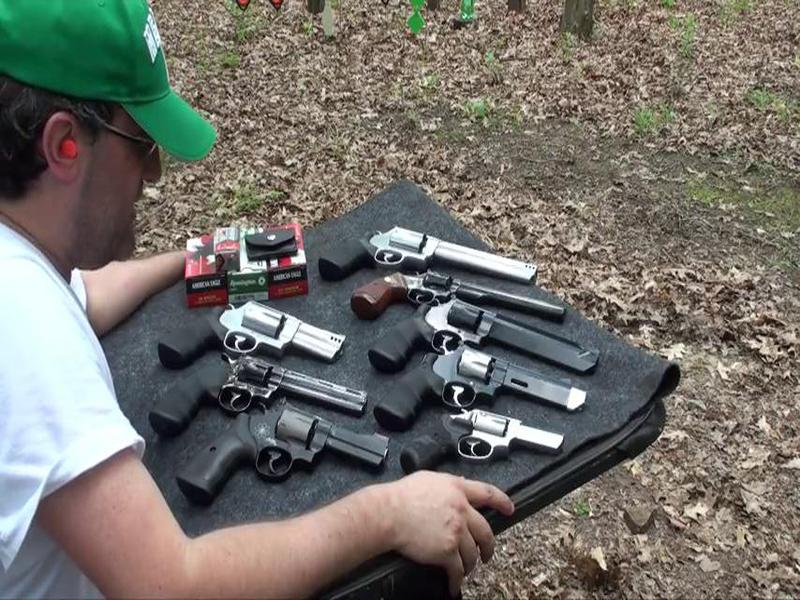Revolver: (154, 288, 344, 376)
